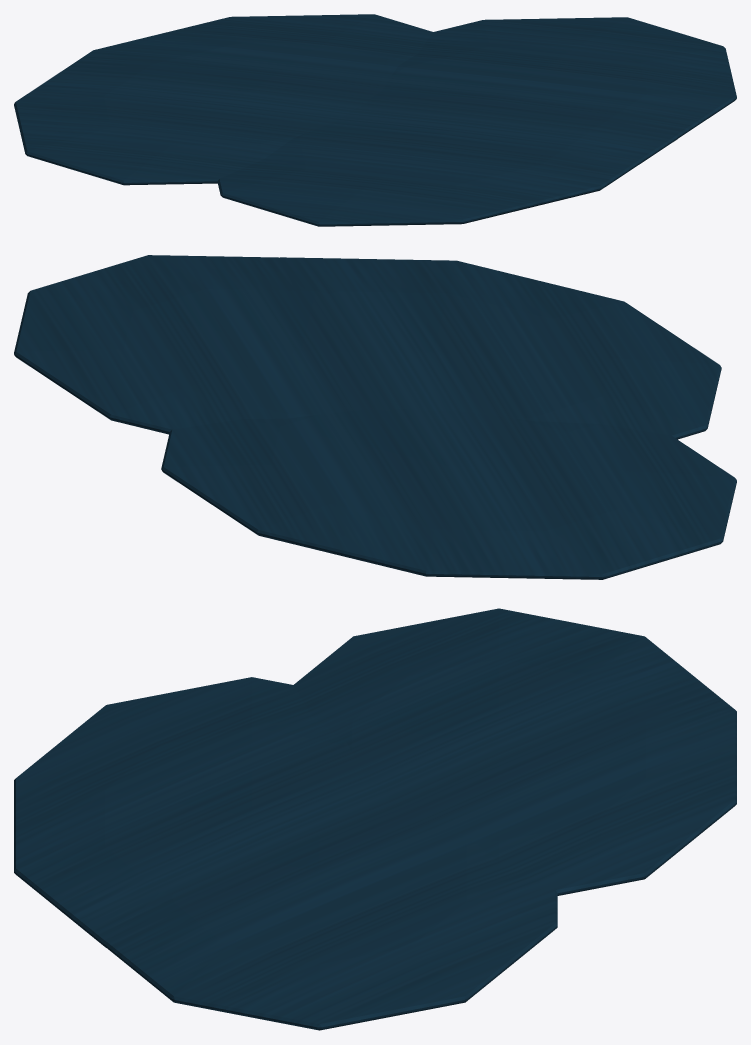
The model's file is PROP-B23E778664CA_lod1.glb.
3 renders of one model, top to bottom at view 1: azimuth 30°, elevation 25°; view 2: azimuth 150°, elevation 25°; view 3: azimuth 270°, elevation 25°, orthographic. The views are drawn at different scales.
Visible parts, largest first — view 1: surface_hazard.008; view 2: surface_hazard.008; view 3: surface_hazard.008.
Part boxes in pixels (bbox=[...]): surface_hazard.008: bbox=[14, 14, 736, 226]; surface_hazard.008: bbox=[14, 255, 736, 579]; surface_hazard.008: bbox=[14, 608, 736, 1030].
Bounding box in the file's own units: 1.61 × 0.036 × 1.18.
1 material, 1 textured.
